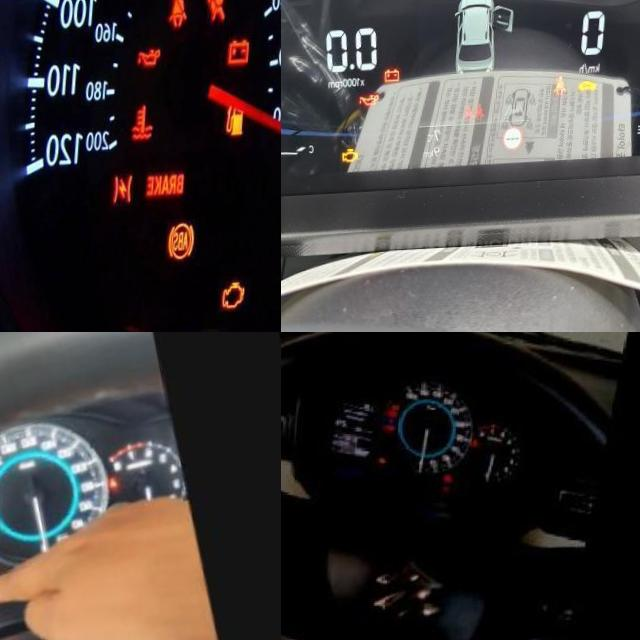Engine cooling system: (388, 429, 395, 436)
